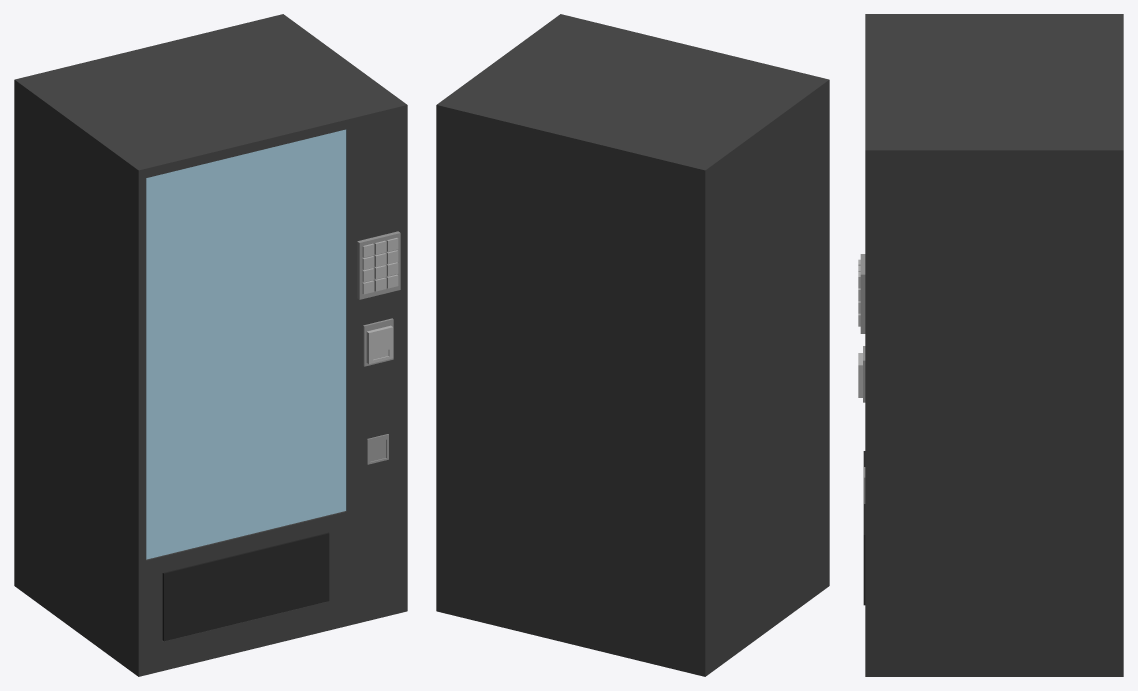
The model's file is vending machine.fbx.
3 views of the same model, side by side, from view 1: azimuth 30°, elevation 25°; view 2: azimuth 150°, elevation 25°; view 3: azimuth 270°, elevation 25° (orthographic). The views are drawn at different scales.
Visible parts, largest first — view 1: pCube1, pPlane1, pCube7, pCube8, pCube63, pCube9; view 2: pCube1; view 3: pCube1, pCube8.
Part boxes in pixels (x1,y1,x2,y2): pCube1: [14, 14, 407, 676]; pPlane1: [146, 129, 346, 559]; pCube7: [162, 532, 329, 641]; pCube8: [357, 231, 400, 299]; pCube63: [366, 325, 393, 364]; pCube9: [367, 434, 388, 464]; pCube1: [436, 14, 829, 676]; pCube1: [865, 14, 1123, 676]; pCube8: [860, 254, 865, 333].
Bounding box in the file's own units: 1 × 1.8 × 0.822.
